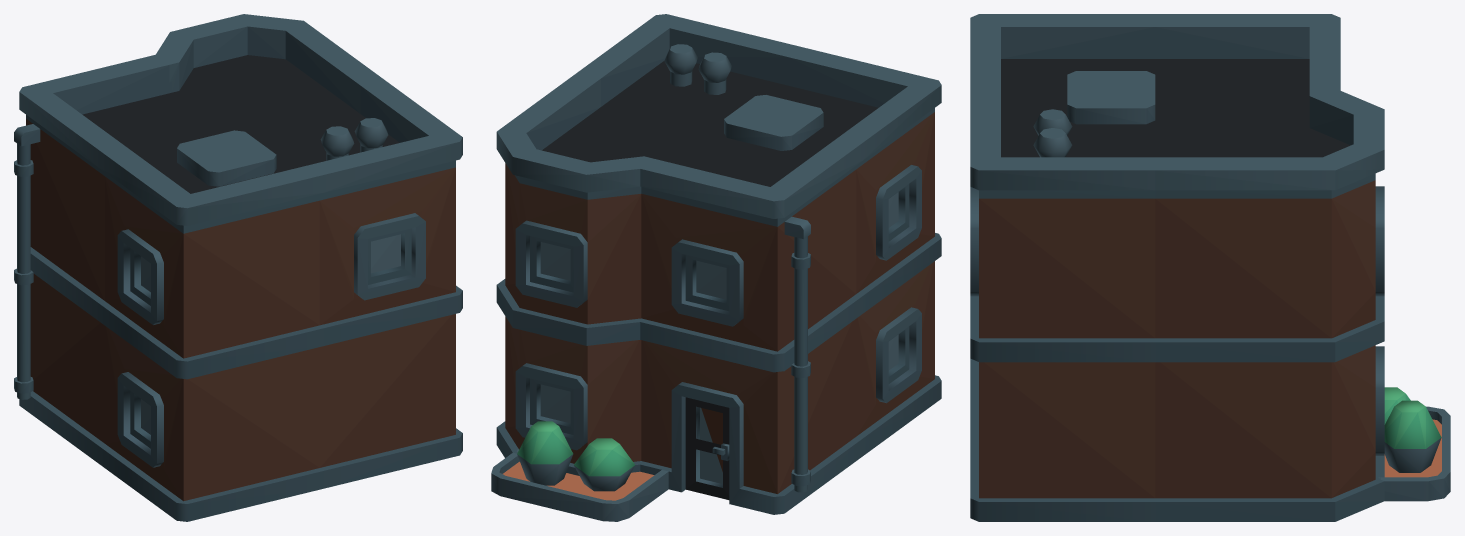
File: building-c.high.d89c438f.glb
3 renders of one model, left to right at view 1: azimuth 30°, elevation 25°; view 2: azimuth 150°, elevation 25°; view 3: azimuth 270°, elevation 25°, orthographic. The views are drawn at different scales.
Parts seen in each view (by area): view 1: building-c; view 2: building-c; view 3: building-c.
Part boxes in pixels (x1,y1,x2,y2): building-c: [14, 14, 462, 521]; building-c: [491, 14, 941, 521]; building-c: [970, 14, 1450, 521].
Bounding box in the file's own units: 10.6 × 10.72 × 13.08.
